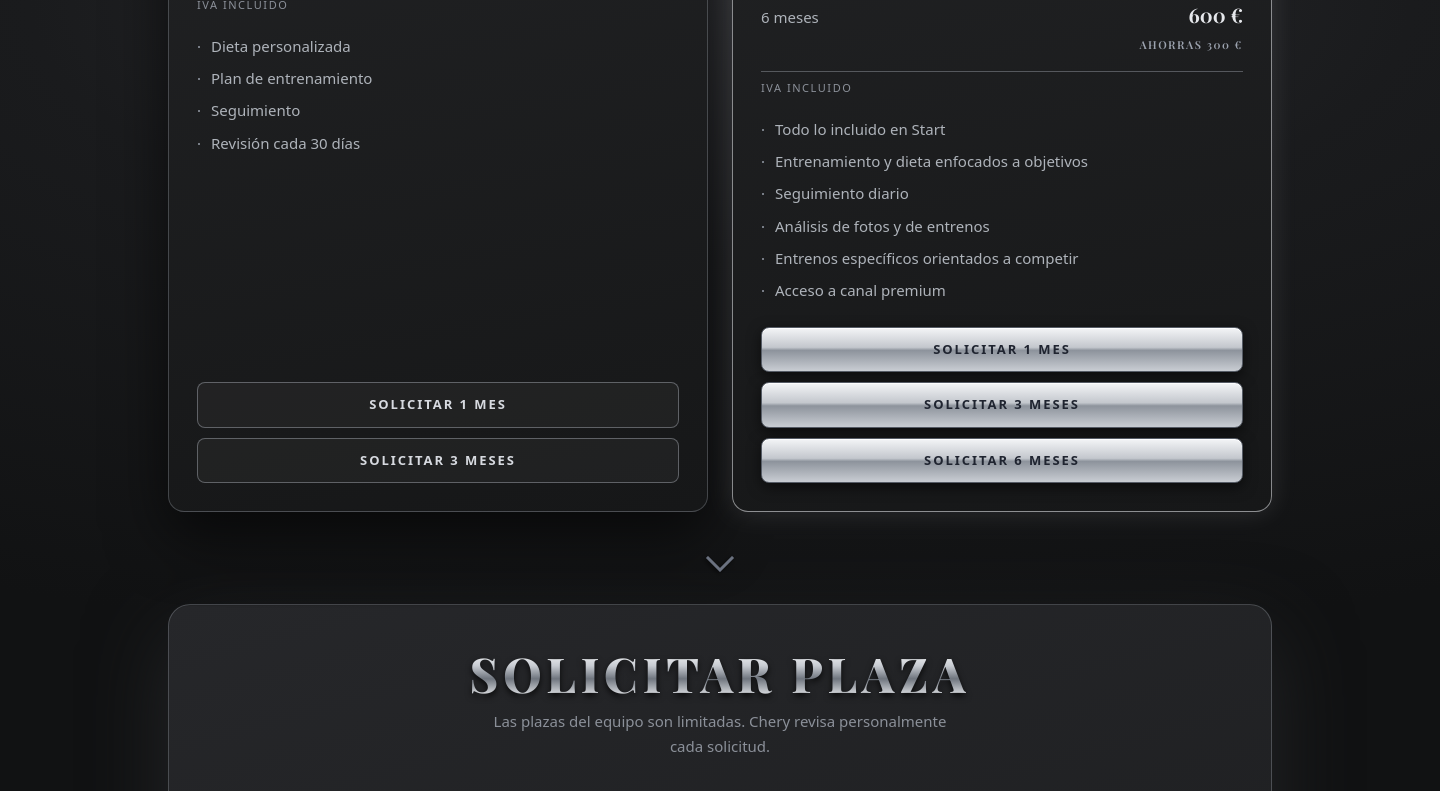
ServicePage › conserva lo escrito al elegir un segundo plan
This screenshot has width=1440, height=791.
(page scrolled)
Click the button "Solicitar 1 mes" below "Revisión cada 30 días". click: (438, 405)
box: [197, 382, 679, 428]
(page scrolled)
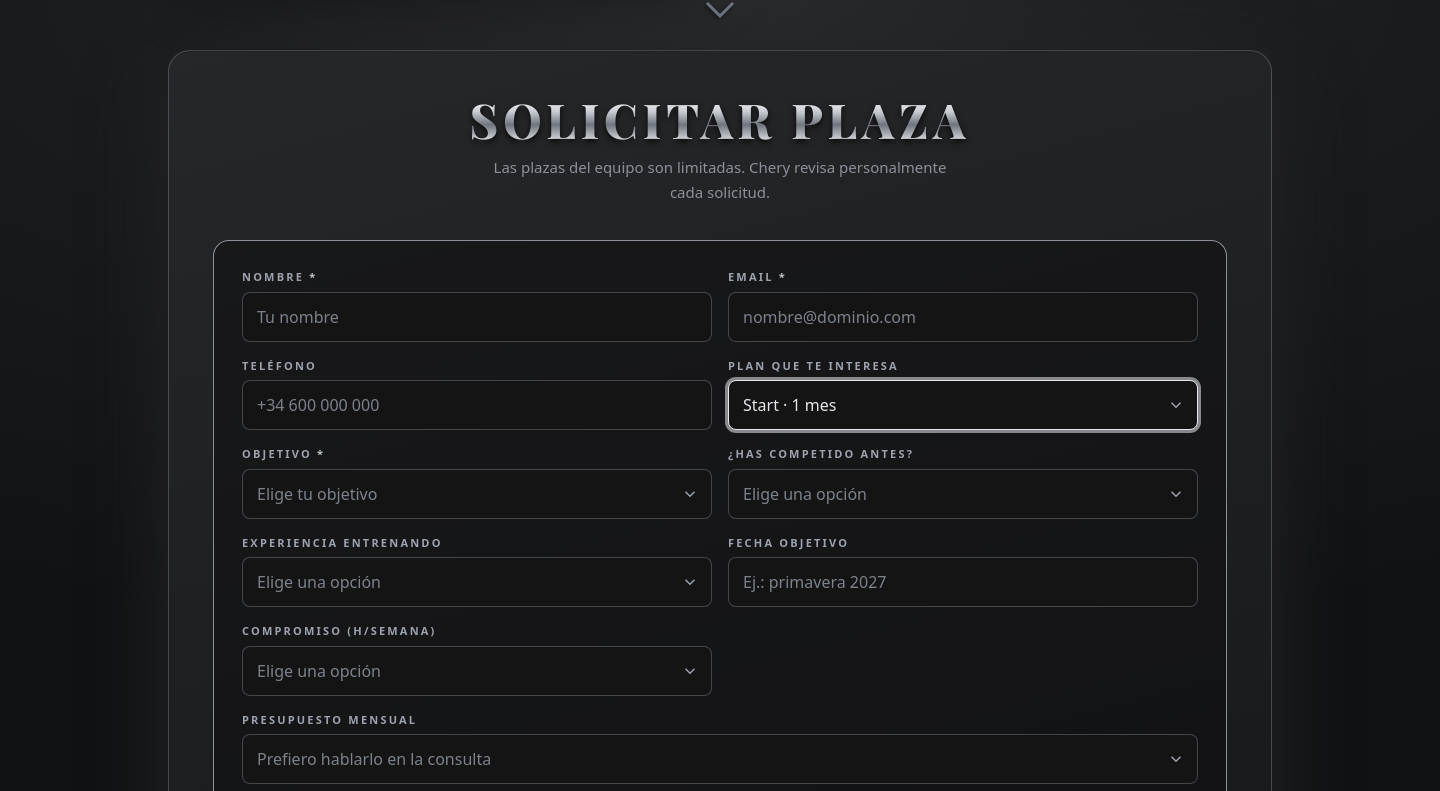
Type "Chery" into the field labelled "Nombre *". click: (477, 316)
box: [242, 292, 712, 342]
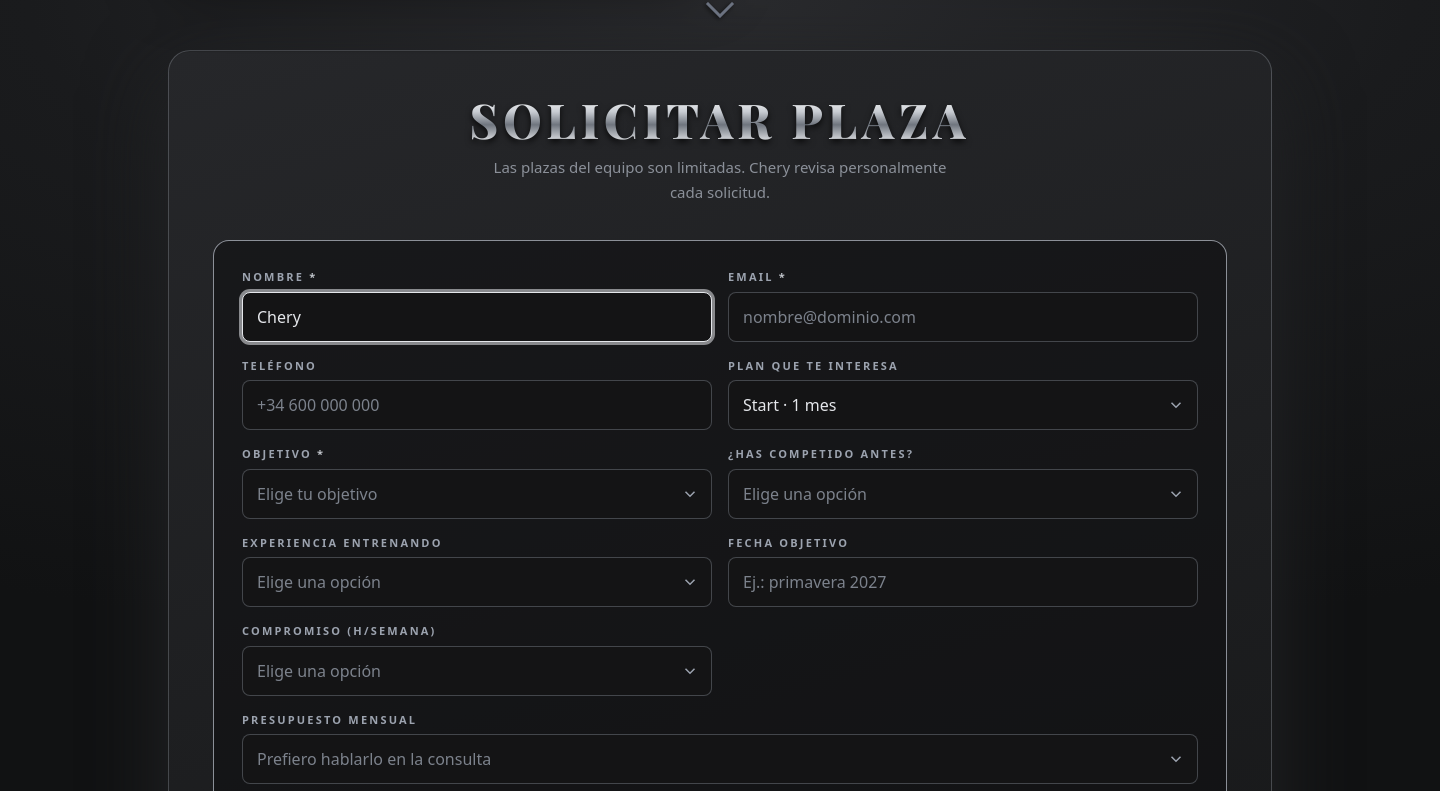
Type "chery@ejemplo.com" into the field labelled "Email *". click: (963, 316)
box: [728, 292, 1198, 342]
(page scrolled)
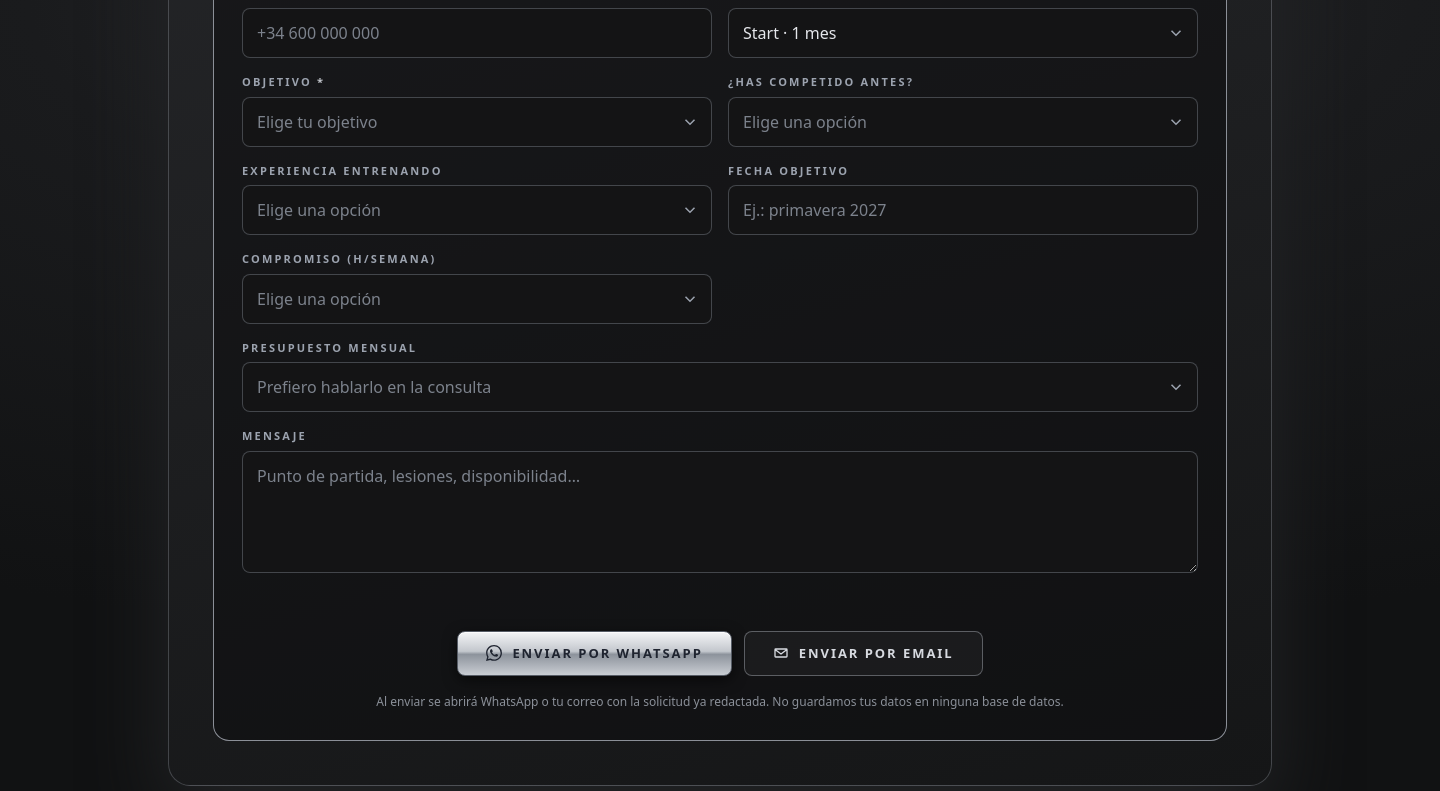
Type "Vengo de una lesión de hombro" into the text box labelled "Mensaje". click: (720, 512)
box: [242, 450, 1198, 572]
(page scrolled)
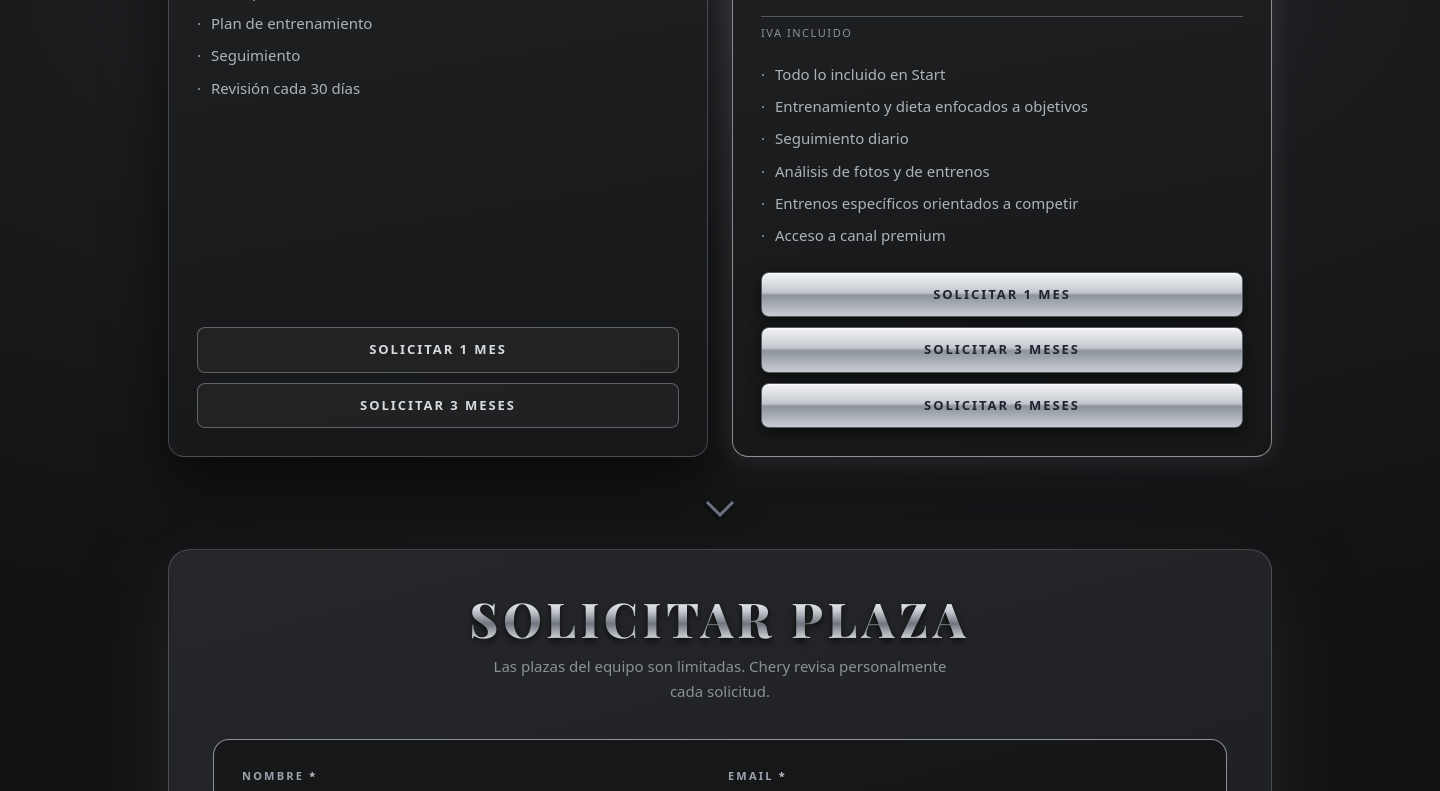
Click the button "Solicitar 6 meses". click: (1002, 406)
box: [761, 383, 1243, 428]
(page scrolled)
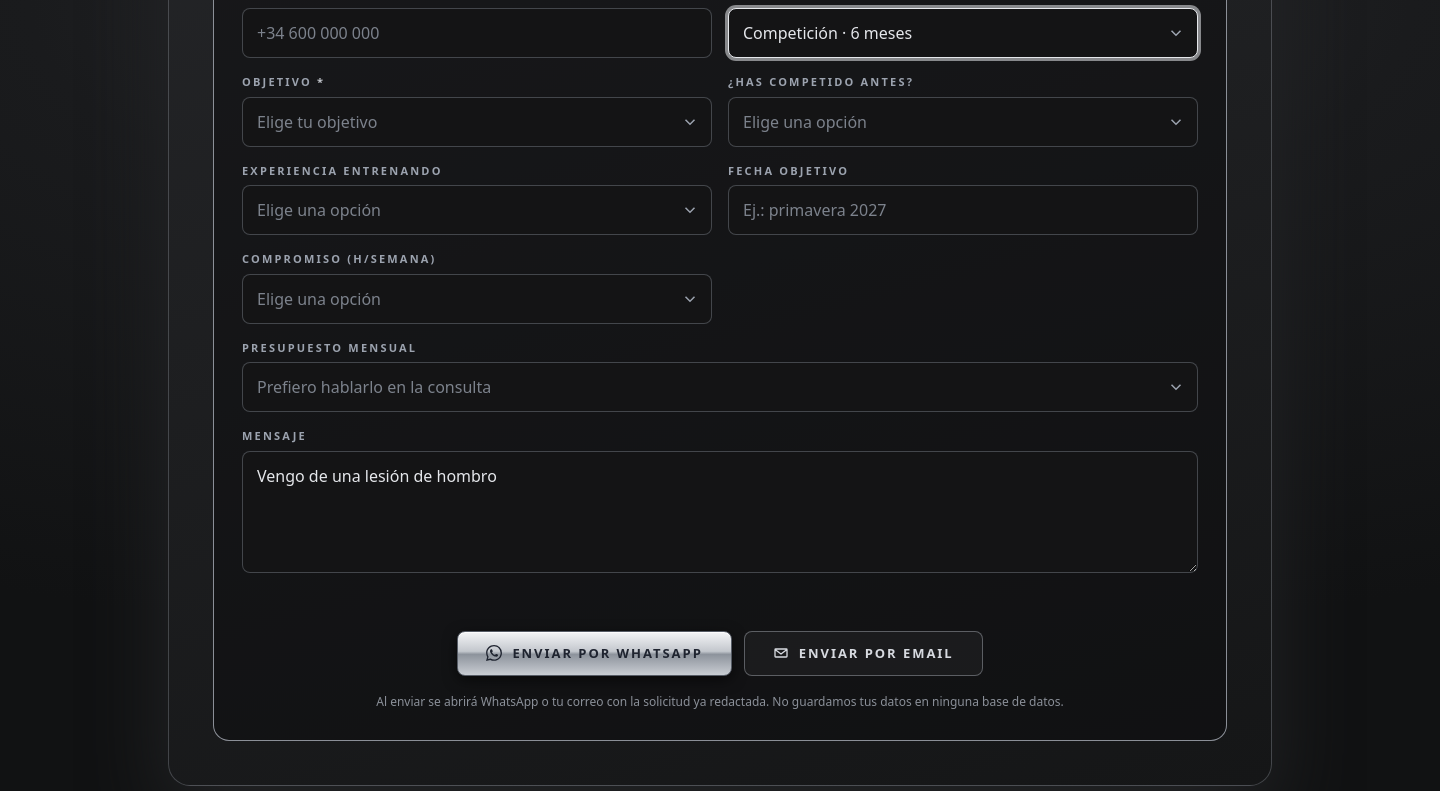
Expected: the dropdown labelled "Plan que te interesa" shows "Competición · 6 meses", [728, 8, 1198, 58]
